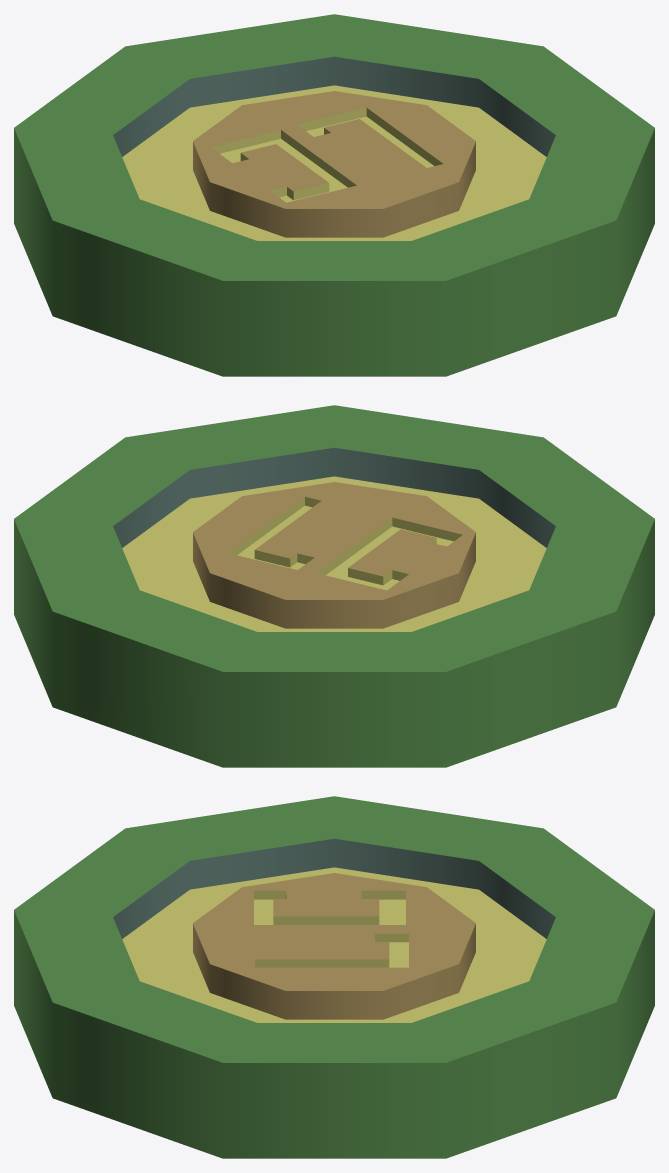
Rendered from MoneyCoin.fbx.
3 renders of one model, top to bottom at view 1: azimuth 30°, elevation 25°; view 2: azimuth 150°, elevation 25°; view 3: azimuth 270°, elevation 25°, orthographic.
Visible parts, largest first — view 1: Model; view 2: Model; view 3: Model.
Boxes of the visible parts, left/top/right/bottom form: Model: left=14, top=14, right=654, bottom=376; Model: left=14, top=405, right=654, bottom=767; Model: left=14, top=796, right=654, bottom=1158.
Size of the model in its own units: 64.14 by 10.74 by 65.13.
